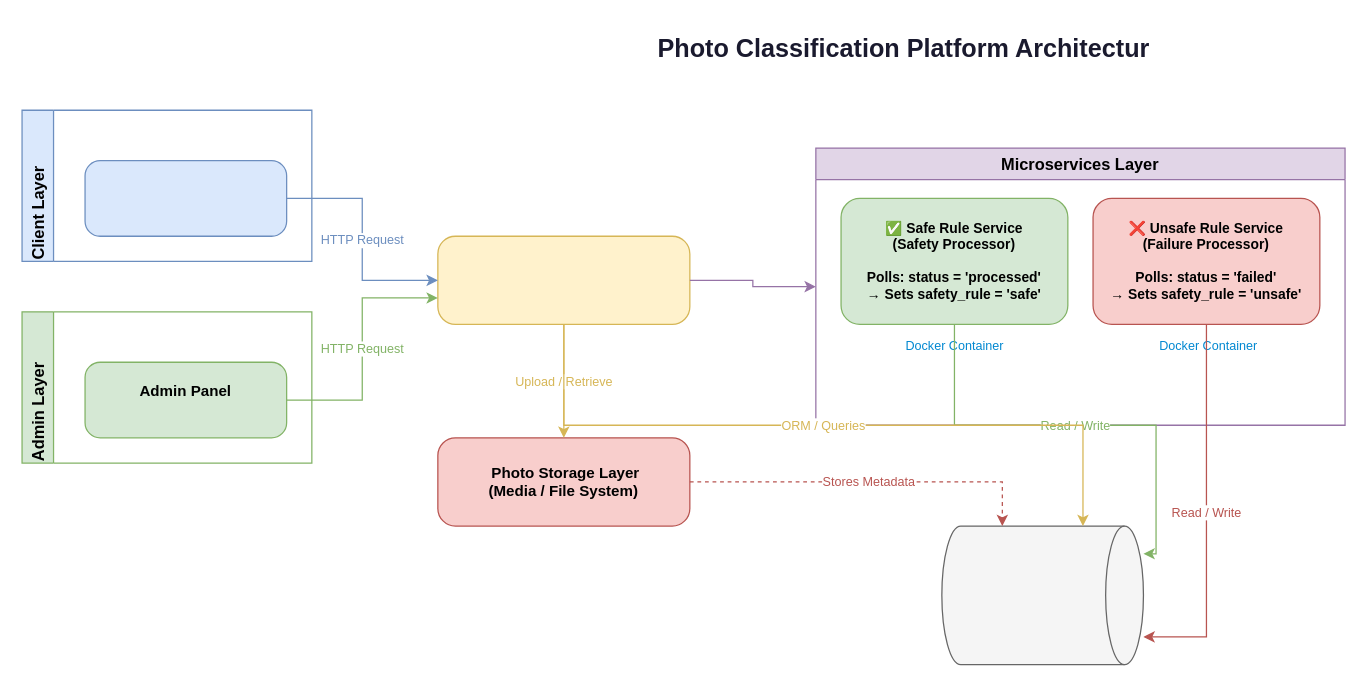
Some shapes in this 1367 by 687 pixel diagram are drawn without their labels. Here are the shapes that lost their labels. From the top down, the centre of each, then its label:
At point (185, 197): "User Service".
At point (563, 279): "API Gateway / Django URLs (URL Router)".
At point (1042, 595): "Shared Database (PostgreSQL / SQLite) submissions table users table".
